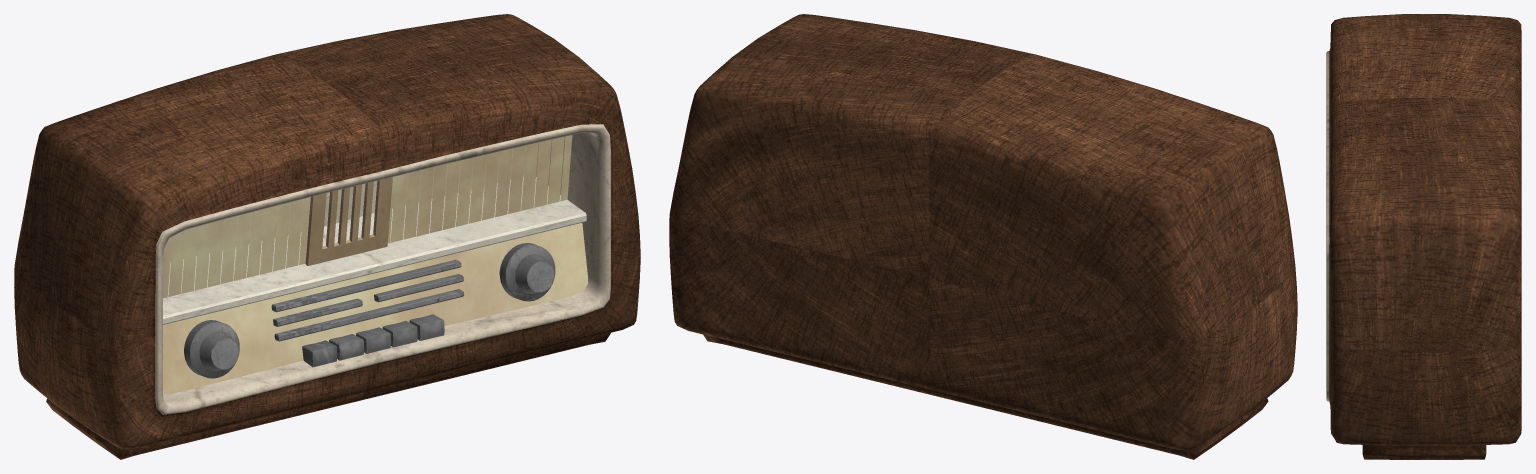
File: radio.fbx
The picture shows the model from 3 angles, left to right: view 1: azimuth 30°, elevation 25°; view 2: azimuth 150°, elevation 25°; view 3: azimuth 270°, elevation 25°; orthographic projection. The views are drawn at different scales.
Parts seen in each view (by area): view 1: radio; view 2: radio; view 3: radio.
Part boxes in pixels (box(x1,y1,x2,y2)): radio: box(14, 14, 640, 459); radio: box(669, 14, 1297, 459); radio: box(1326, 14, 1521, 459).
Size of the model in its own units: 175 by 90.02 by 61.96.
1 material, 1 textured.
